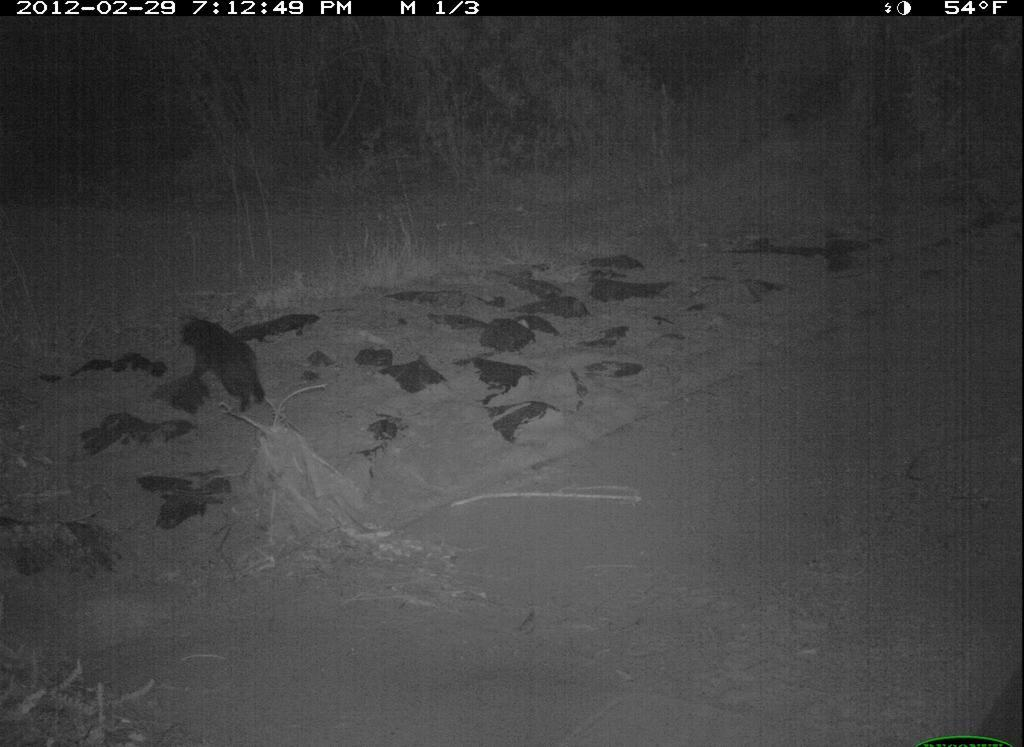cat: (177, 310, 271, 423)
